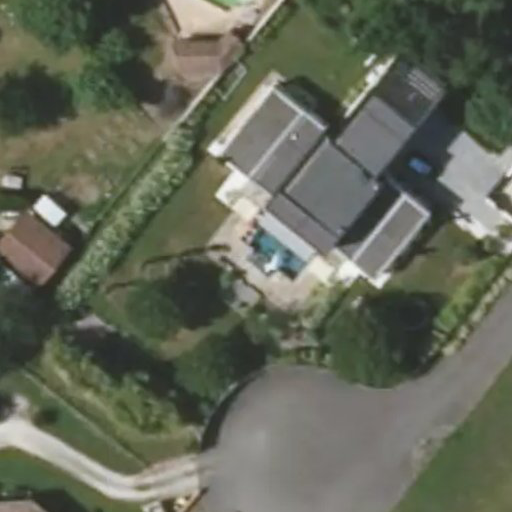pool: (208, 240, 296, 251)
